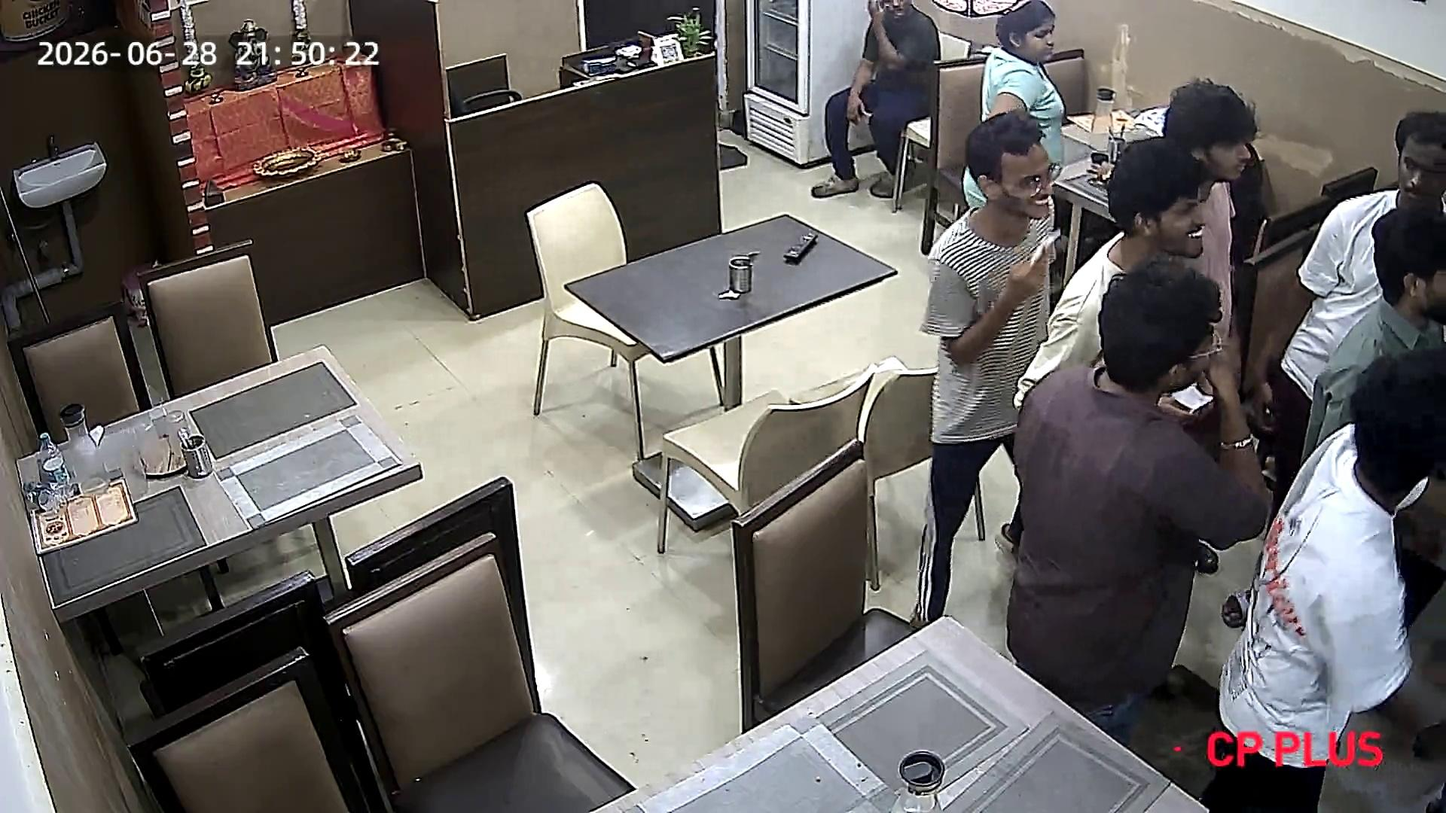clean: (588, 624, 1218, 813), (563, 208, 907, 363)
dirty: (13, 335, 438, 620)
